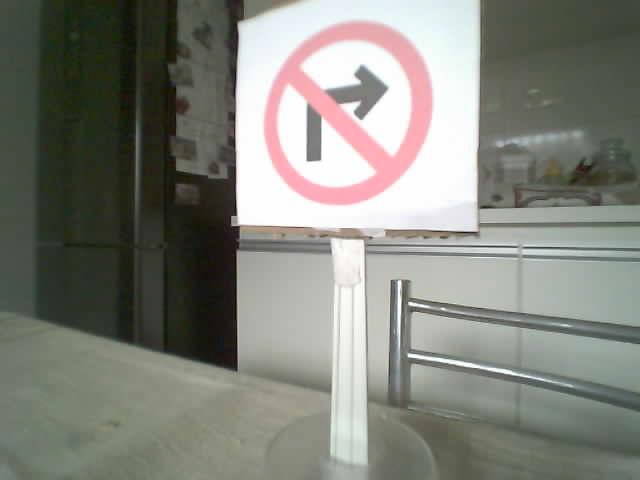R-4b_proibido-direita: (263, 19, 433, 206)
